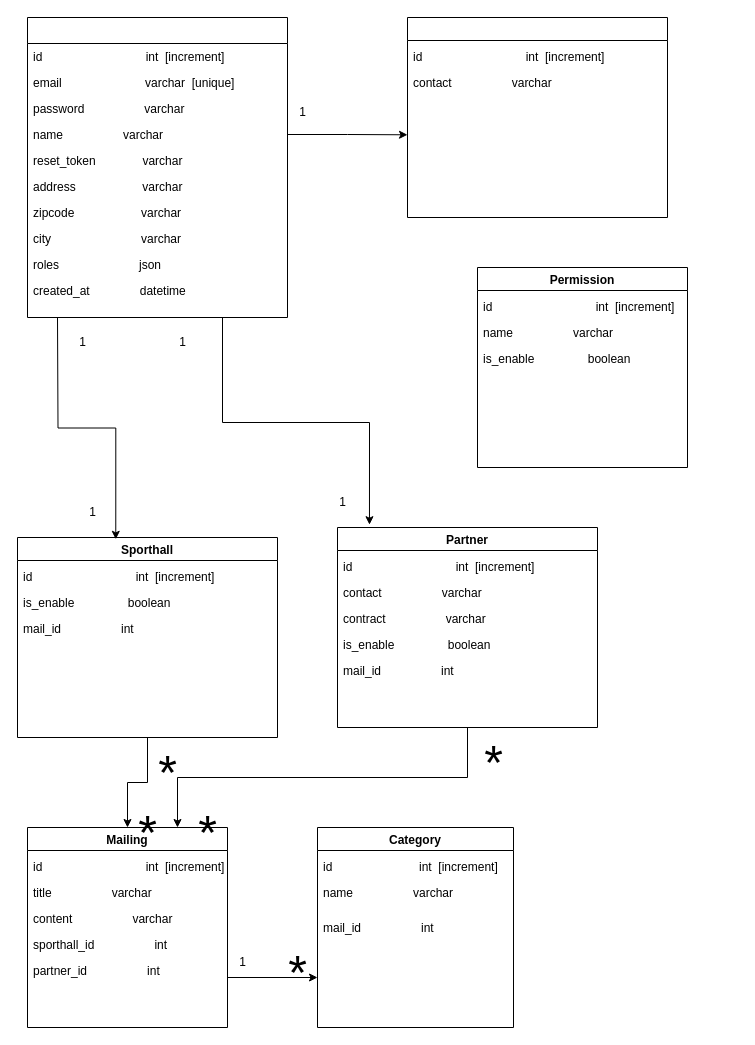
Image size: 755x1045. Some labels were removed from this diagram. Each missing label, with the box of its shape:
Maincustomer: (406, 16, 668, 218)
User: (26, 16, 288, 318)
